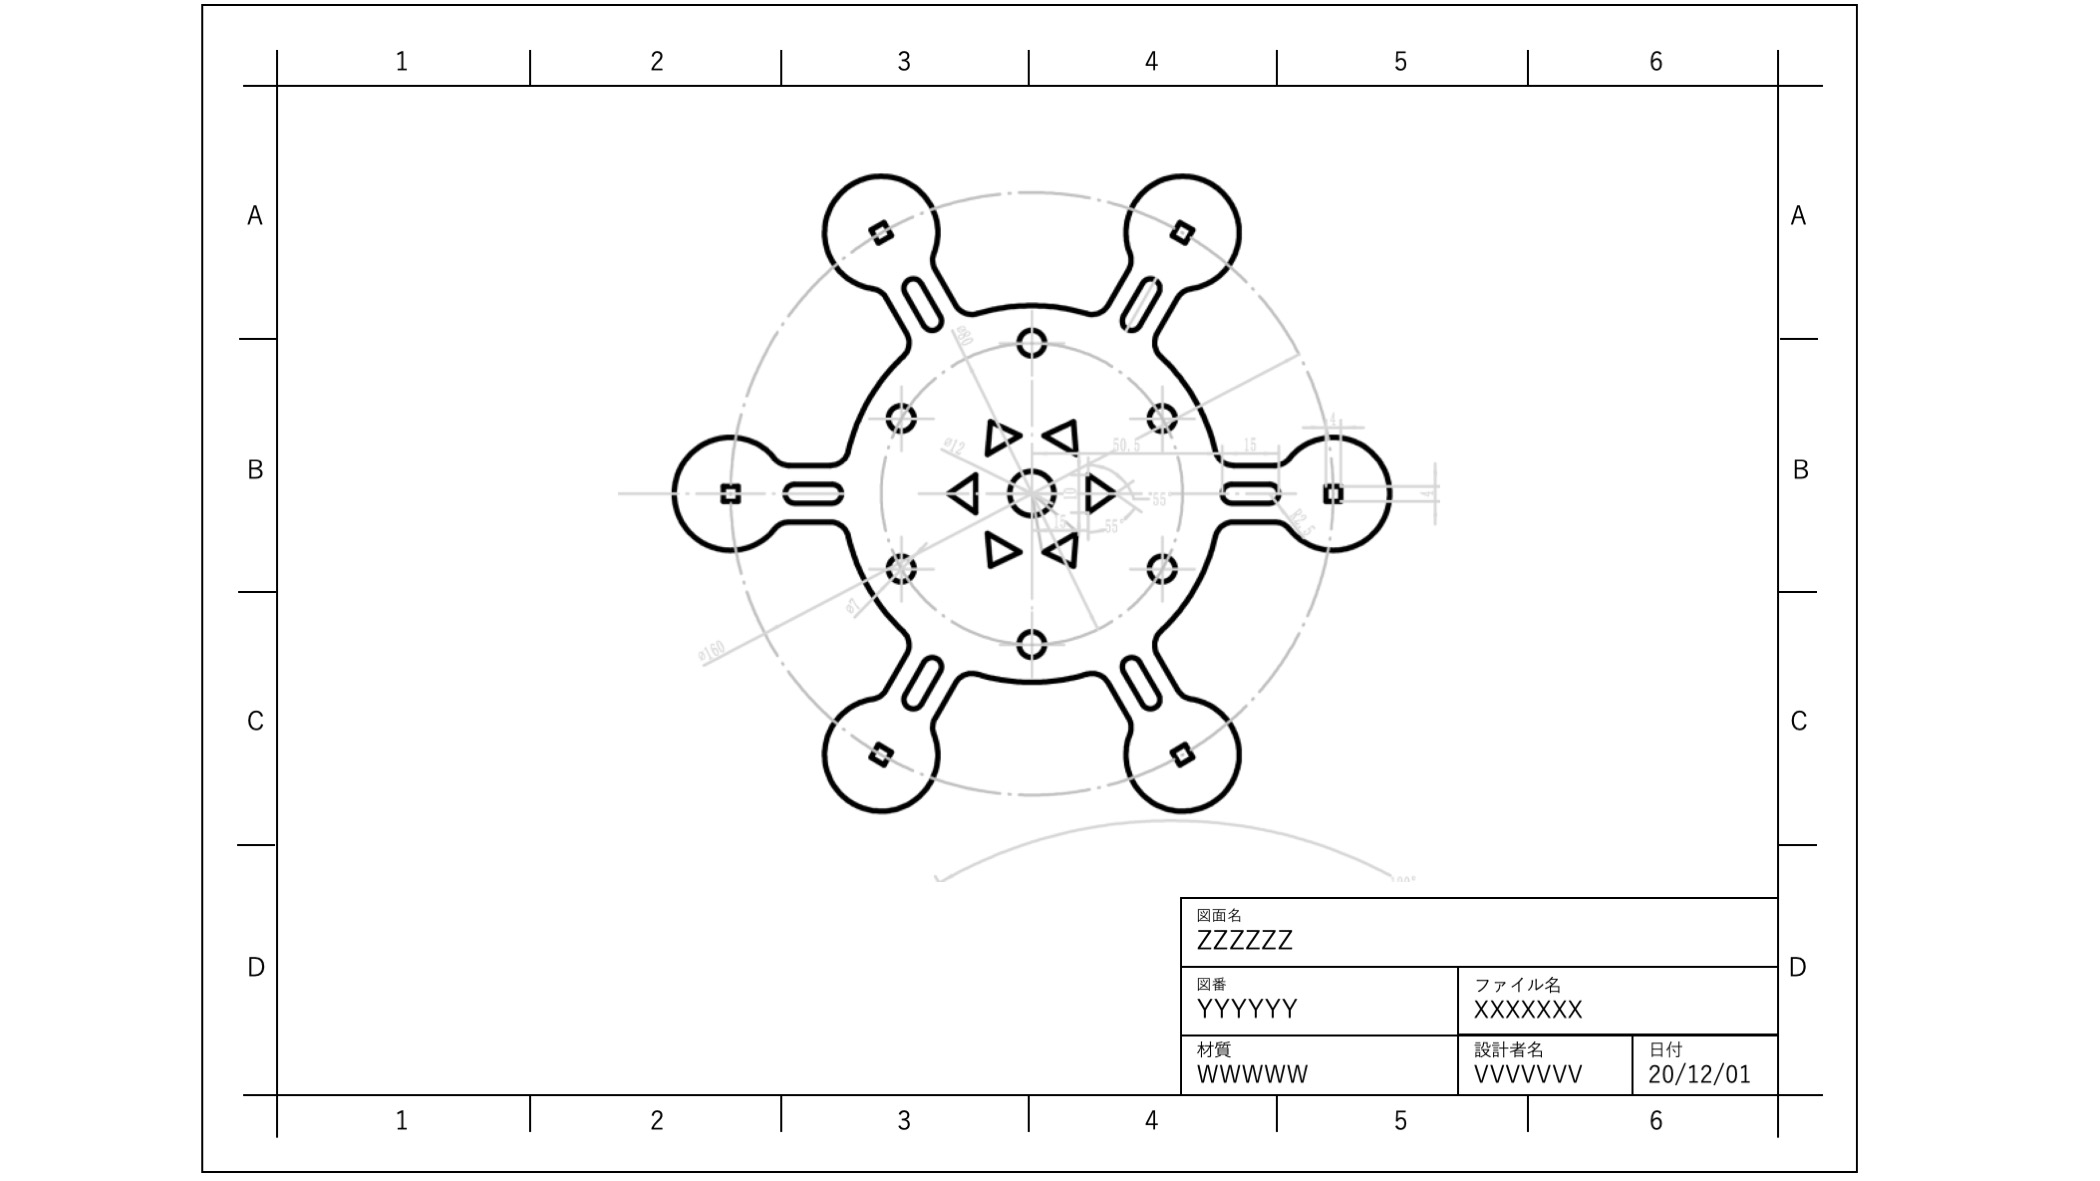circle: (1002, 466, 1056, 518), (1005, 319, 1054, 363), (1142, 542, 1180, 588), (1142, 392, 1178, 440), (883, 397, 922, 435), (1011, 619, 1049, 659), (880, 552, 917, 587)
rectangle: (1164, 733, 1204, 769), (1164, 215, 1197, 247), (865, 211, 894, 247), (870, 728, 894, 769), (715, 473, 744, 506), (1317, 474, 1346, 508)
round_rectangle: (891, 265, 949, 339), (1116, 649, 1165, 717), (1207, 469, 1279, 513), (907, 647, 945, 725), (1121, 273, 1161, 339), (782, 477, 854, 510)
triangle: (1036, 521, 1083, 575), (975, 523, 1025, 572), (978, 408, 1021, 463), (937, 464, 985, 513), (1038, 411, 1085, 459), (1080, 469, 1119, 521)
